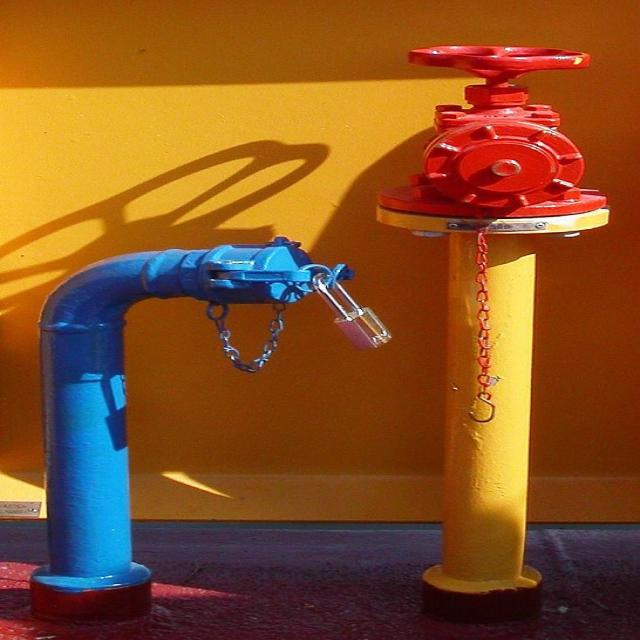fire_hydrant: (381, 43, 612, 619)
